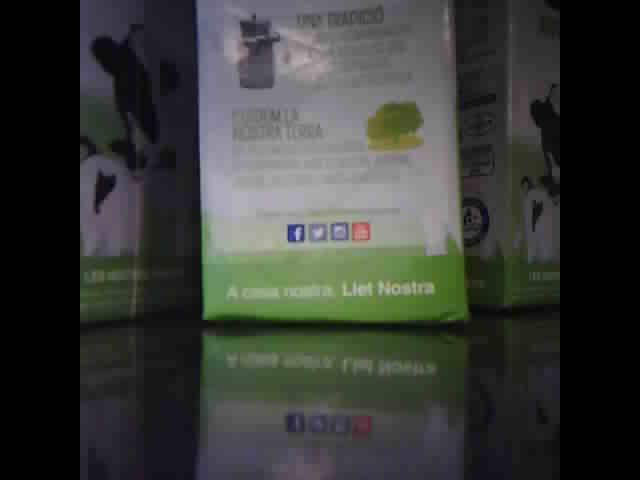leche: (201, 4, 460, 321), (81, 2, 197, 322), (466, 4, 558, 306)
